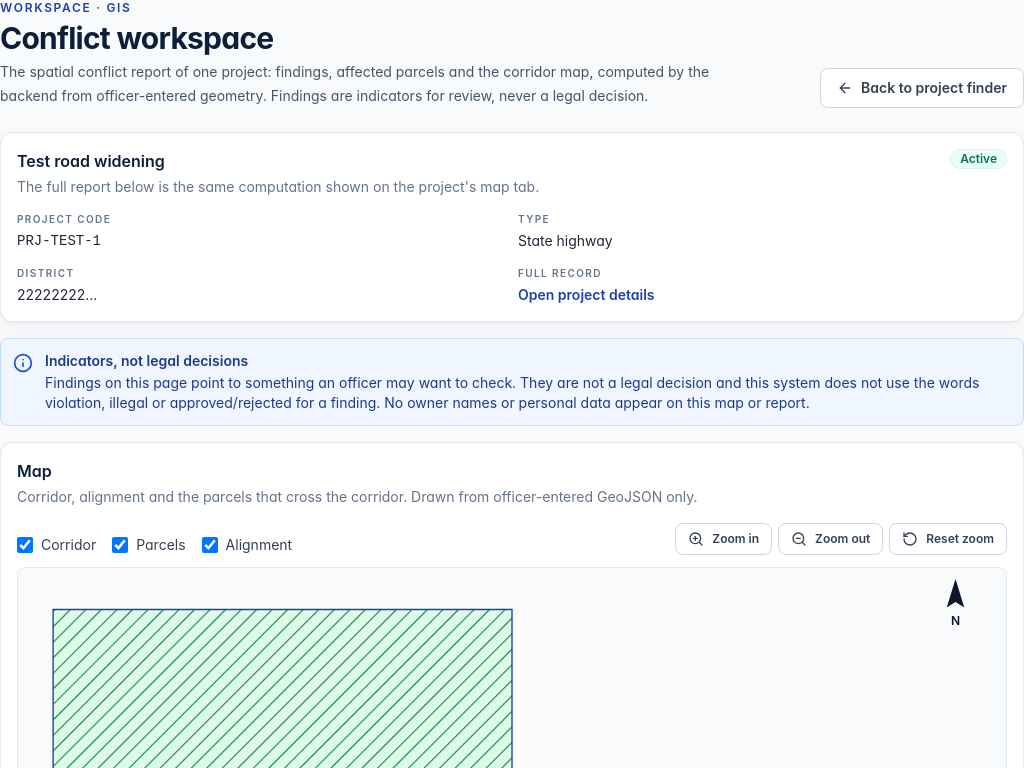
Test: ConflictWorkspacePage › goes back to the finder from an open report
Click the button "Back to project finder": {"x": 922, "y": 88} [820,68,1023,108]
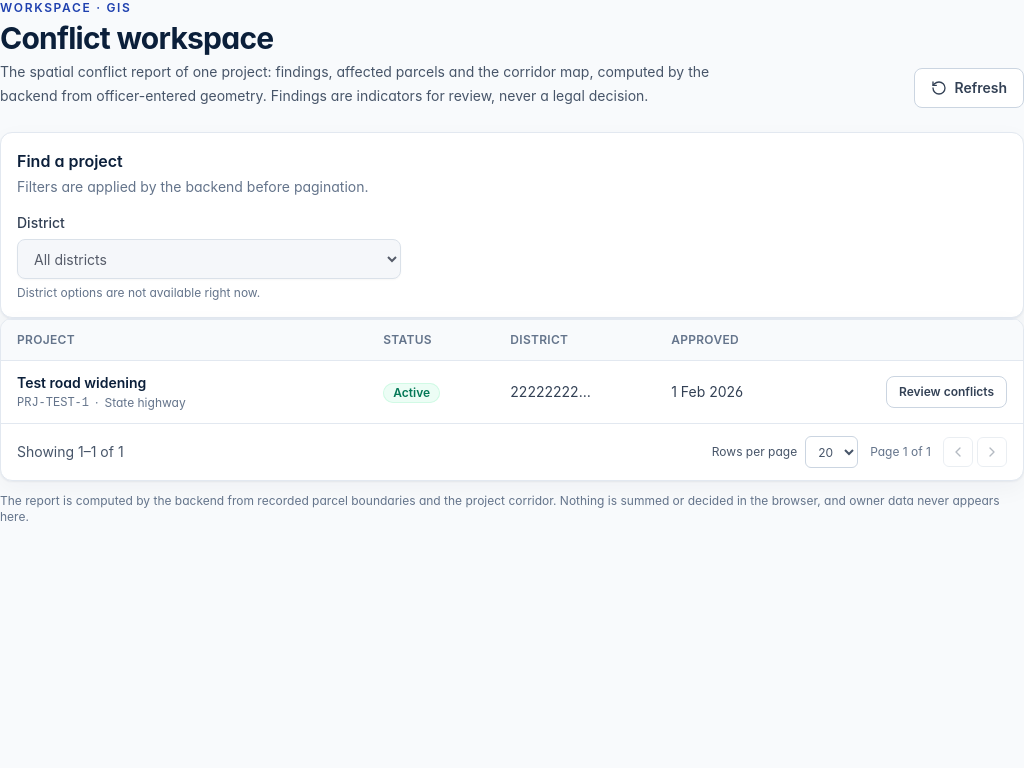
Result: the button "Review conflicts" is shown at [886,376,1007,408]
